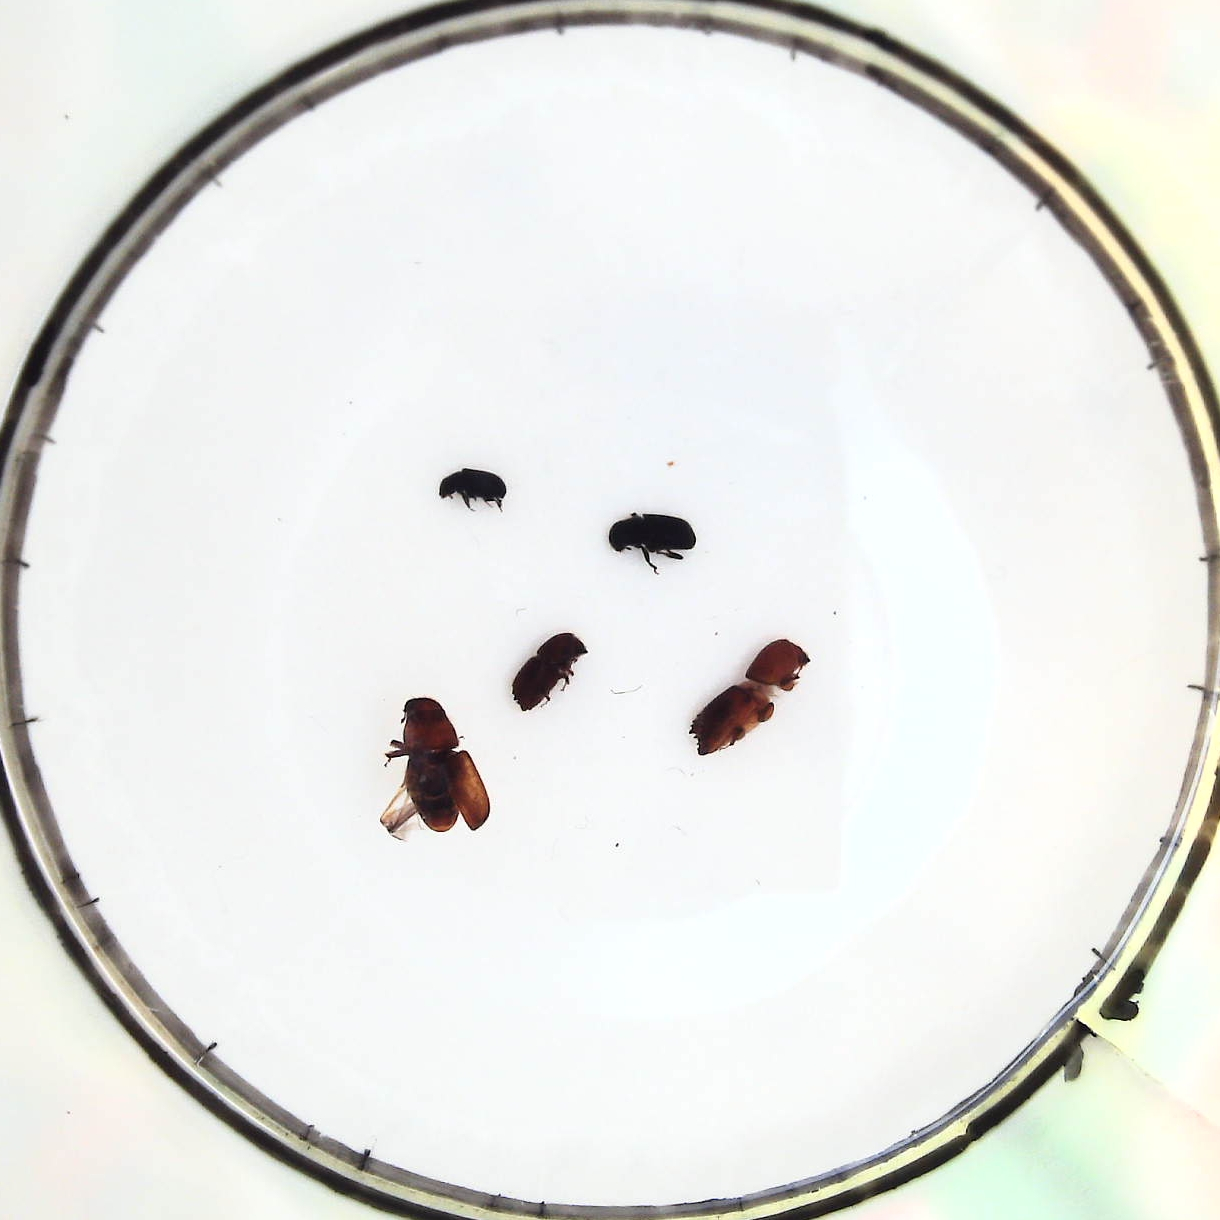Boerner: (690, 632, 812, 756)
Leconte: (381, 695, 488, 842)
Linnaeus: (512, 633, 583, 711)
armandi: (607, 503, 693, 566)
coleoptera: (437, 466, 502, 517)
